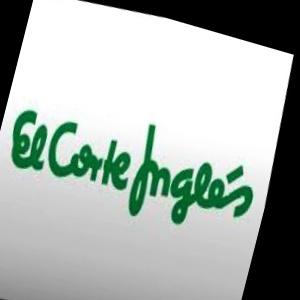corte_ingles: (256, 98, 285, 190)
